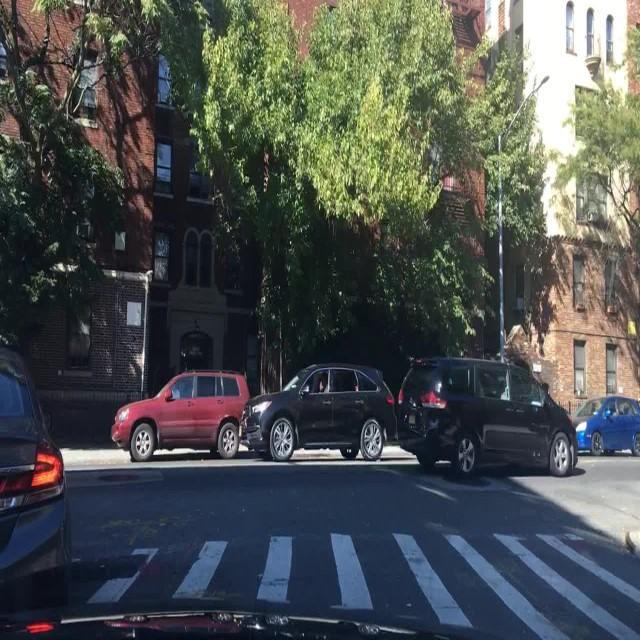normal: (89, 322, 640, 525)
